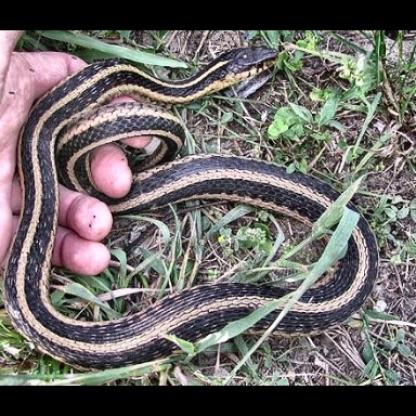Snake: (8, 37, 381, 369), (148, 39, 282, 111)
